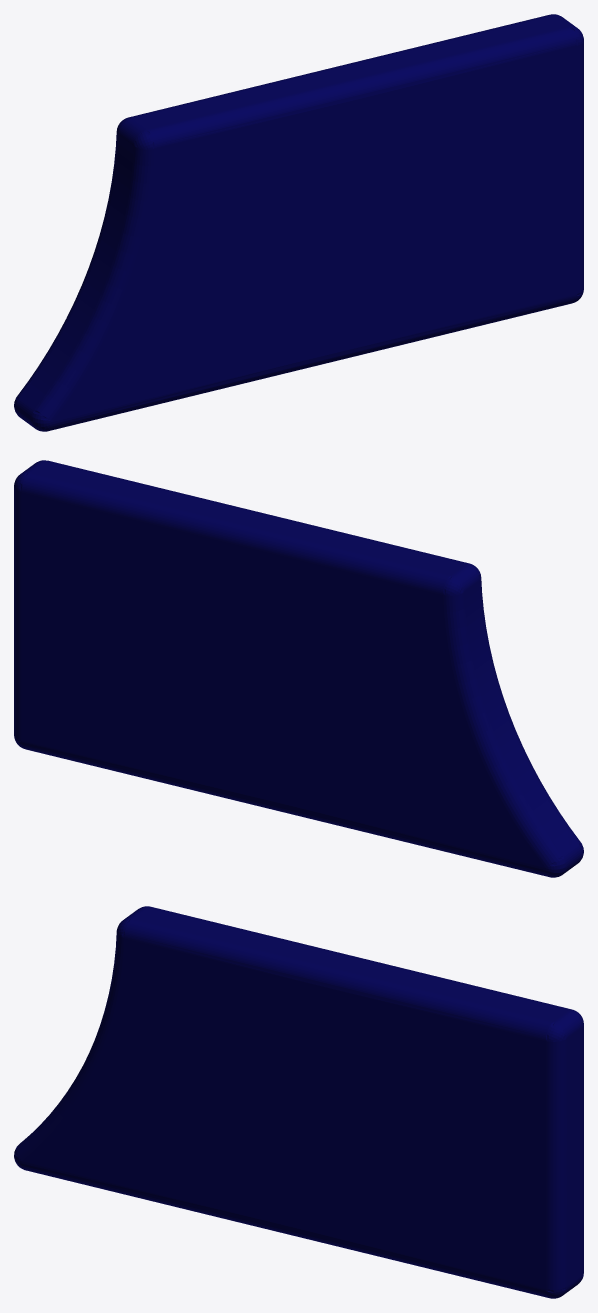
Rendered from infoPanel_BR.obj.
3 views of the same model, one above another, from view 1: azimuth 30°, elevation 25°; view 2: azimuth 150°, elevation 25°; view 3: azimuth 330°, elevation 25° (orthographic).
Parts seen in each view (by area): view 1: Obj_000001; view 2: Obj_000001; view 3: Obj_000001.
Part boxes in pixels (x1,y1,x2,y2): Obj_000001: (14, 14, 583, 431); Obj_000001: (14, 460, 583, 877); Obj_000001: (14, 906, 583, 1298).
Size of the model in its own units: 1.05 by 0.5 by 0.1.
1 material, 1 textured.
